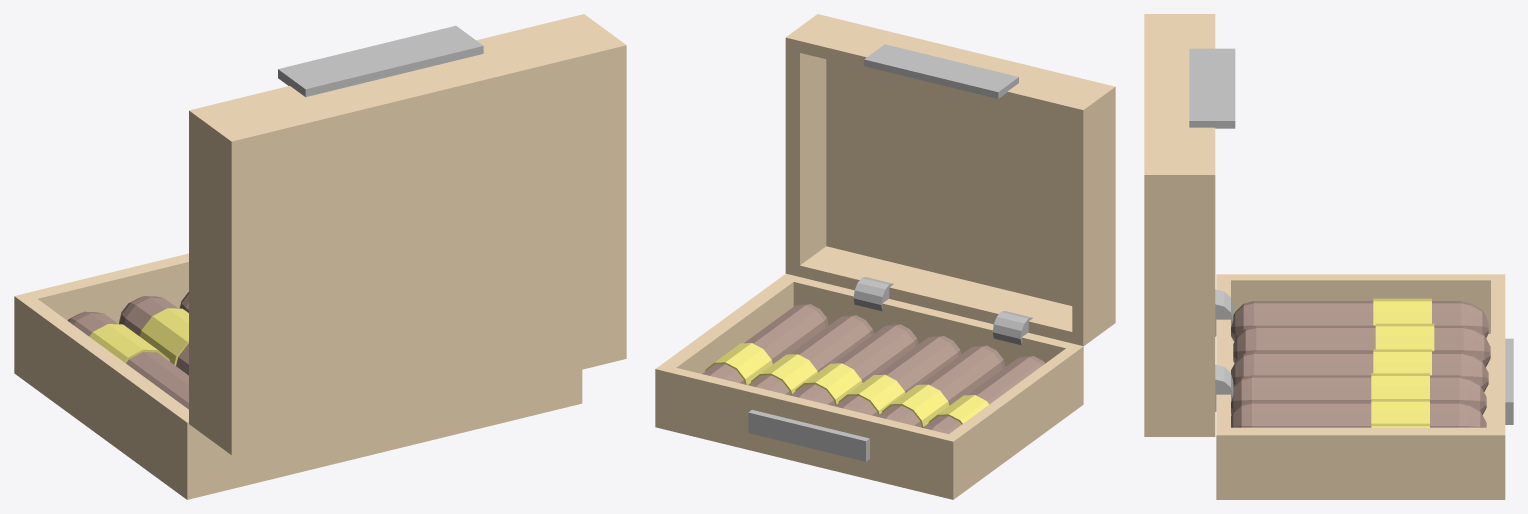
Rendered from cigars.fbx.
3 renders of one model, left to right at view 1: azimuth 30°, elevation 25°; view 2: azimuth 150°, elevation 25°; view 3: azimuth 270°, elevation 25°, orthographic. The views are drawn at different scales.
Parts seen in each view (by area): view 1: model; view 2: model; view 3: model.
Part boxes in pixels (left/top/right/bottom): model: left=14, top=14, right=626, bottom=499; model: left=655, top=14, right=1115, bottom=499; model: left=1144, top=14, right=1513, bottom=499.
Bounding box in the file's own units: 183 × 175 × 177.
